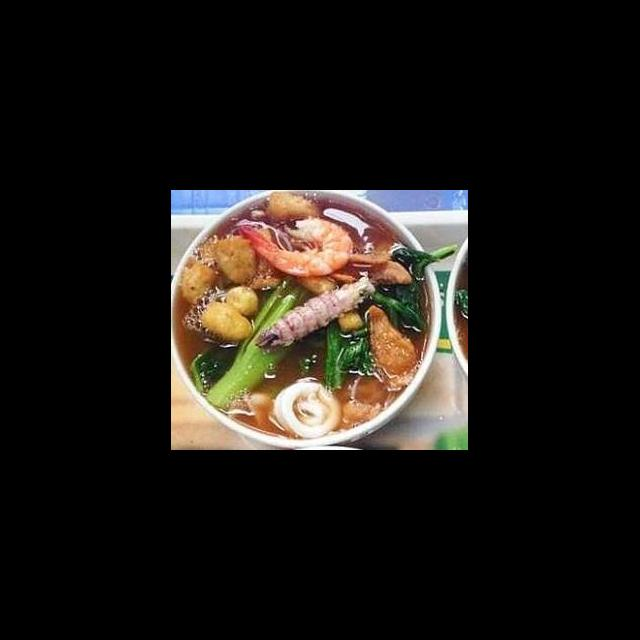muc: (270, 374, 342, 443)
tom: (234, 214, 358, 281)
tom tit: (253, 269, 379, 356)
